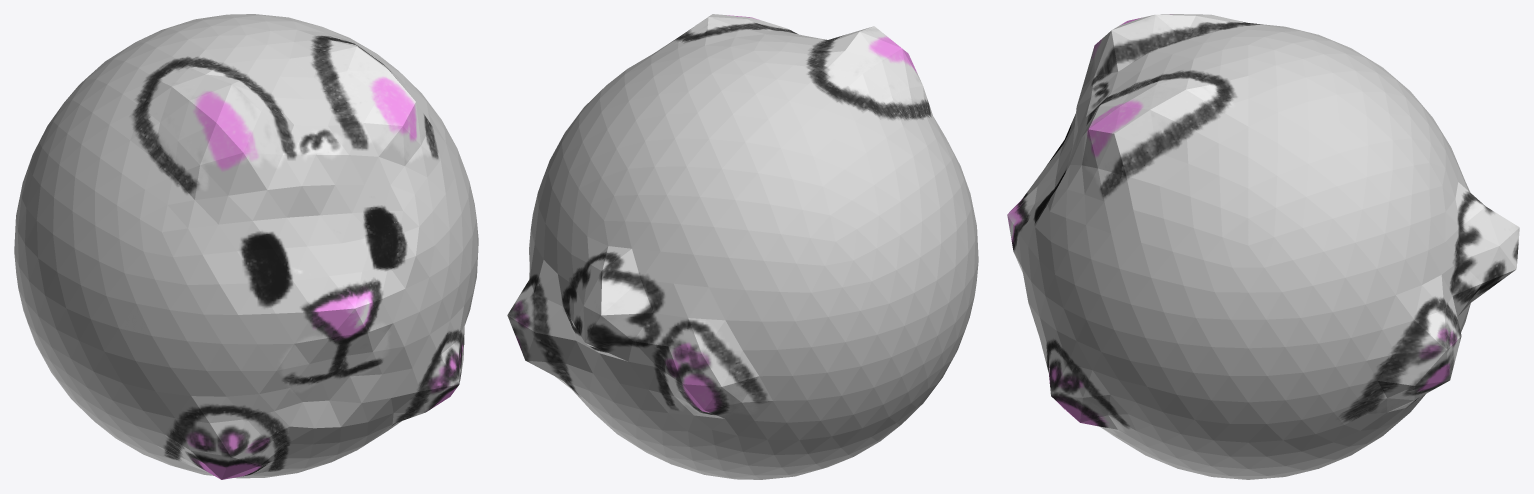
The model's file is bunny.glb.
3 renders of one model, left to right at view 1: azimuth 30°, elevation 25°; view 2: azimuth 150°, elevation 25°; view 3: azimuth 270°, elevation 25°, orthographic. The views are drawn at different scales.
Parts seen in each view (by area): view 1: Icosphere; view 2: Icosphere; view 3: Icosphere.
Part boxes in pixels (x1,y1,x2,y2): Icosphere: [14, 14, 478, 479]; Icosphere: [507, 14, 978, 479]; Icosphere: [1007, 14, 1519, 479].
Size of the model in its own units: 2 by 2 by 2.25.
Materials: 1 (1 with a texture image).
